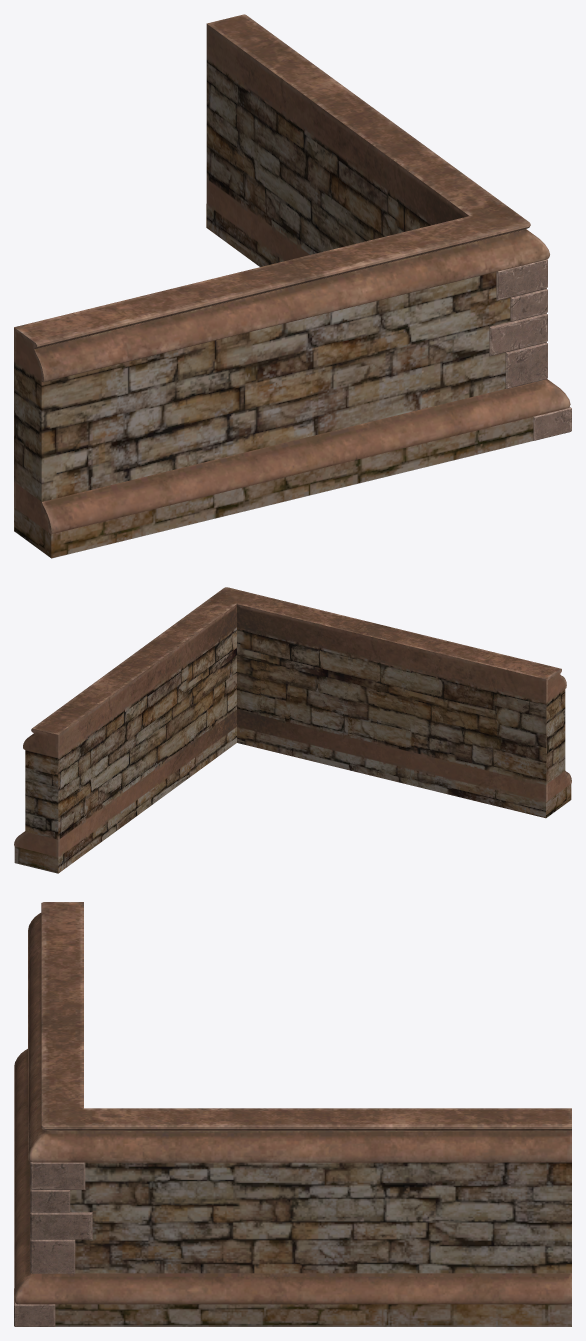
File: SM_BaseWall_01_Corner.fbx
3 renders of one model, top to bottom at view 1: azimuth 30°, elevation 25°; view 2: azimuth 150°, elevation 25°; view 3: azimuth 270°, elevation 25°, orthographic. The views are drawn at different scales.
Visible parts, largest first — view 1: SM_BaseWall_01_Corner; view 2: SM_BaseWall_01_Corner; view 3: SM_BaseWall_01_Corner.
Part boxes in pixels (<box>): SM_BaseWall_01_Corner: <box>14,14,571,558</box>; SM_BaseWall_01_Corner: <box>14,587,571,873</box>; SM_BaseWall_01_Corner: <box>14,902,571,1326</box>.
Bounding box in the file's own units: 320 × 120 × 320.
